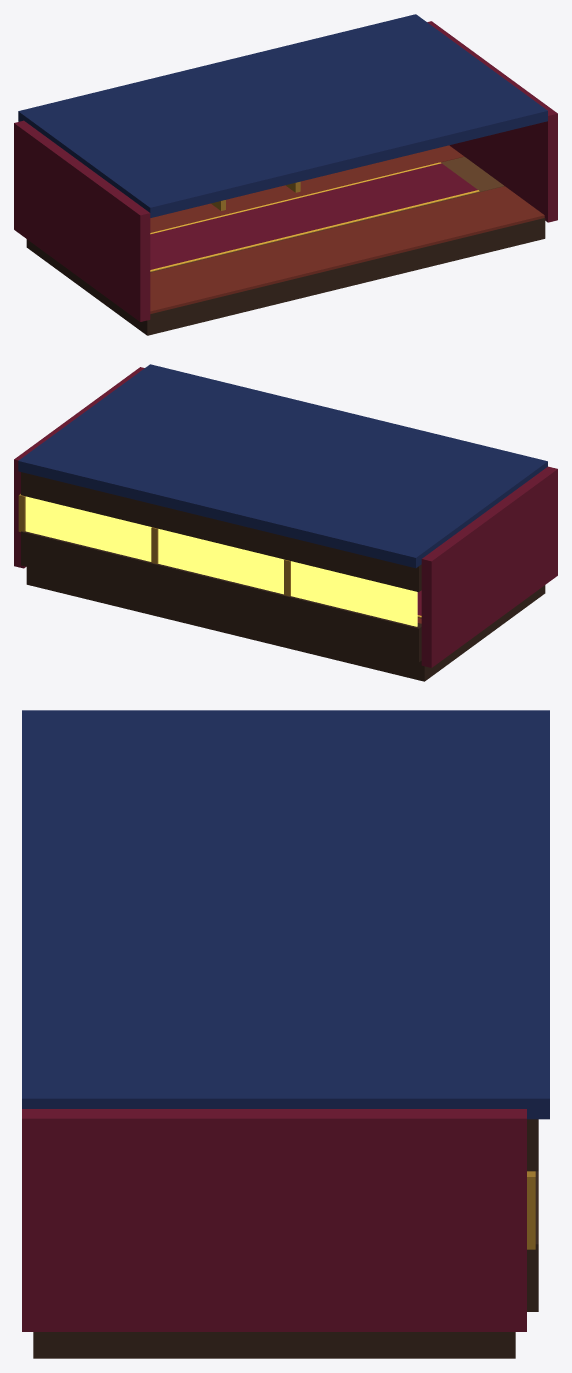
The model's file is SM_Env_WarRoom_LQ.glb.
3 views of the same model, one above another, from view 1: azimuth 30°, elevation 25°; view 2: azimuth 150°, elevation 25°; view 3: azimuth 270°, elevation 25° (orthographic). The views are drawn at different scales.
Visible parts, largest first — view 1: SM_Env_WarRoom_LQ; view 2: SM_Env_WarRoom_LQ; view 3: SM_Env_WarRoom_LQ.
Boxes of the visible parts, x1,y1,x2,y2 form: SM_Env_WarRoom_LQ: [14, 14, 557, 335]; SM_Env_WarRoom_LQ: [14, 364, 557, 681]; SM_Env_WarRoom_LQ: [22, 710, 549, 1358].
Bounding box in the file's own units: 16.8 × 5 × 9.2.
Materials: 1 (1 with a texture image).
